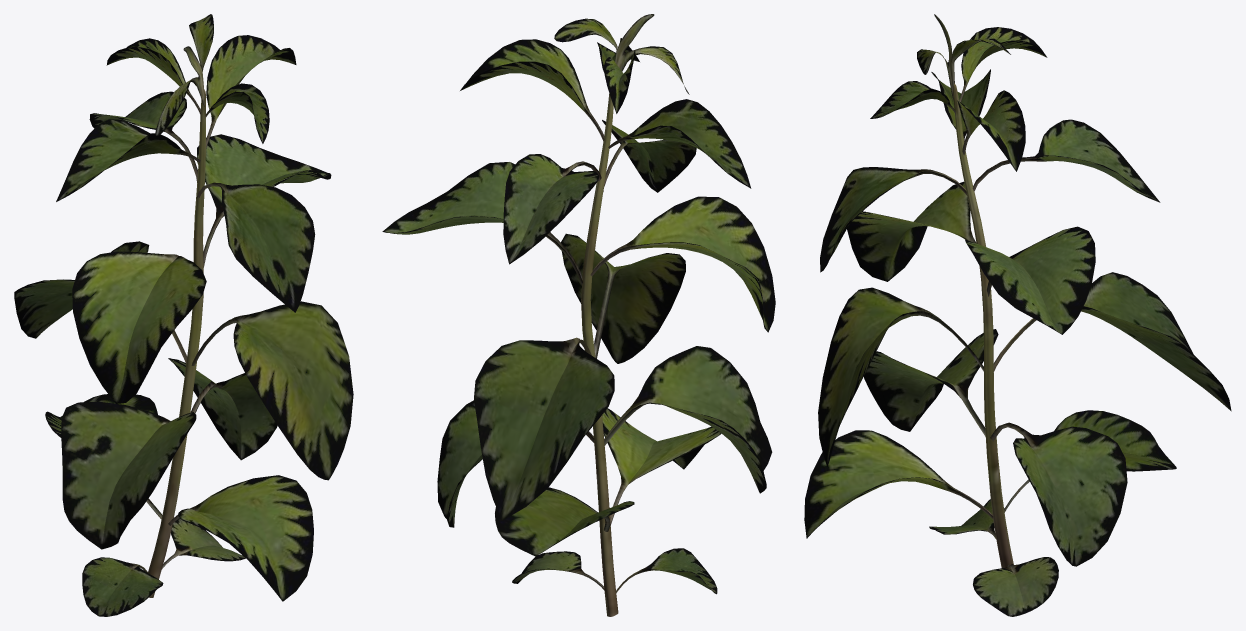
Rendered from nettle_plant_medium.glb.
The picture shows the model from 3 angles, left to right: view 1: azimuth 30°, elevation 25°; view 2: azimuth 150°, elevation 25°; view 3: azimuth 270°, elevation 25°; orthographic projection.
Parts seen in each view (by area): view 1: nettle_plant_medium; view 2: nettle_plant_medium; view 3: nettle_plant_medium.
Boxes of the visible parts, <box> form: nettle_plant_medium: <box>14,14,353,616</box>; nettle_plant_medium: <box>382,14,775,616</box>; nettle_plant_medium: <box>804,14,1231,616</box>.
Size of the model in its own units: 0.0773 by 0.1315 by 0.0891.
1 material, 1 textured.
